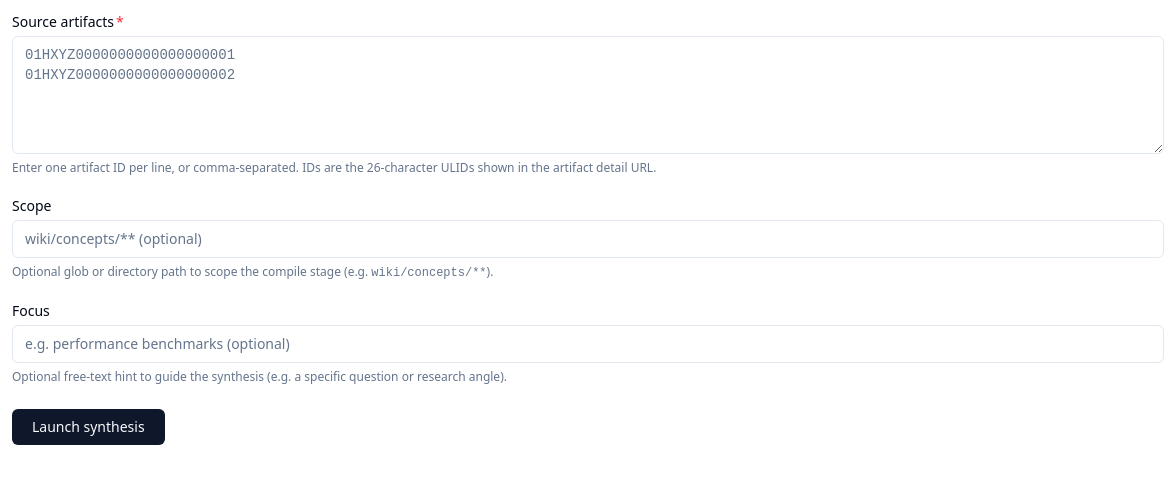
Test: SynthesisBuilder validation › shows a validation error when sources are empty on submit
Click the button "Launch synthesis" at x=88, y=427, box [12,409,165,445]
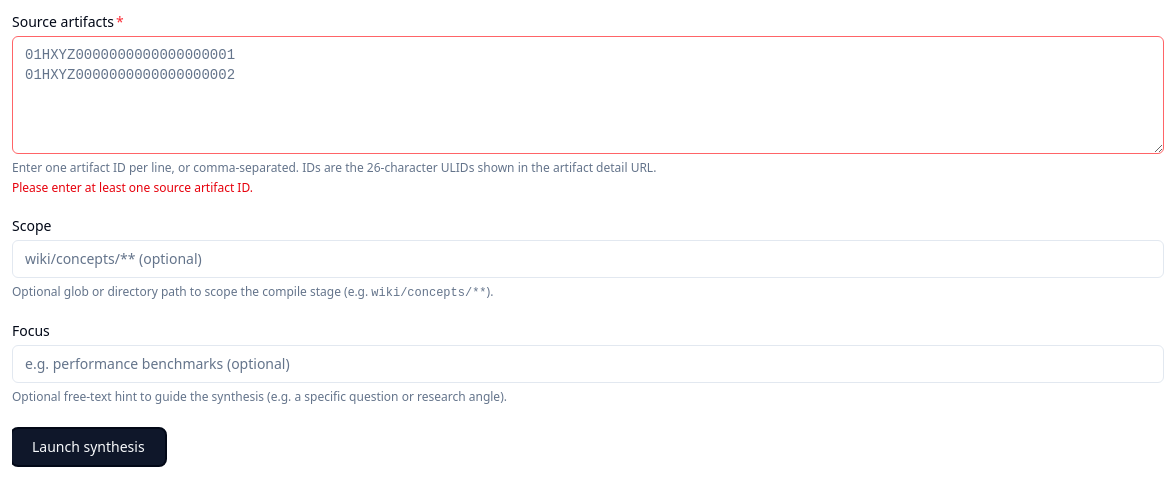
Expected: the message shows "at least one source", [12,179,253,196]
